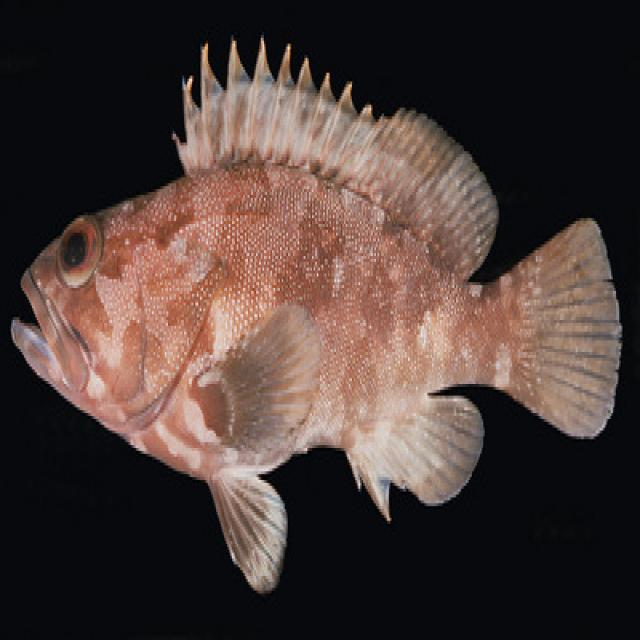ikan: (10, 32, 622, 593)
